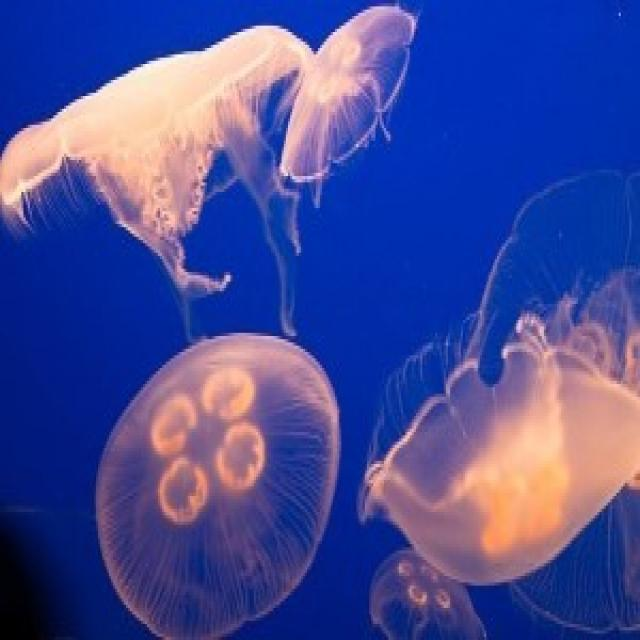Jellyfish: (0, 21, 301, 328), (341, 284, 640, 557), (92, 338, 344, 634), (277, 0, 431, 229), (354, 558, 495, 640)
